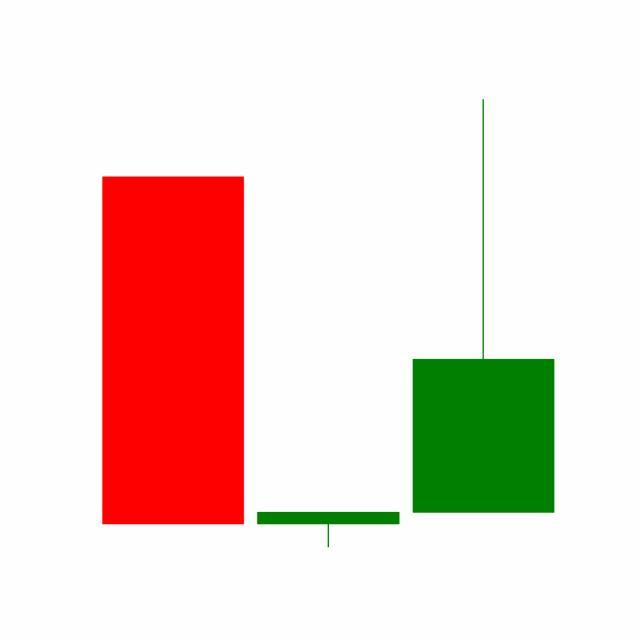Hammer: (250, 511, 407, 549)
